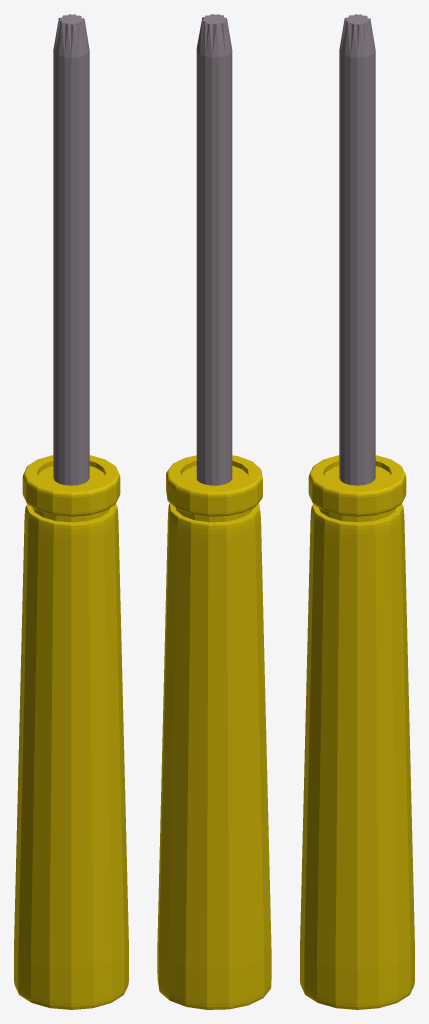
File: ScrewDriverTorx.fbx
The picture shows the model from 3 angles, left to right: view 1: azimuth 90°, elevation 25°; view 2: azimuth 150°, elevation 25°; view 3: azimuth 270°, elevation 25°; orthographic projection.
Visible parts, largest first — view 1: ScrewDriverTorx; view 2: ScrewDriverTorx; view 3: ScrewDriverTorx.
Part boxes in pixels (box(x1,y1,x2,y2)): ScrewDriverTorx: box(14, 14, 128, 1009); ScrewDriverTorx: box(157, 14, 271, 1009); ScrewDriverTorx: box(300, 14, 414, 1009).
Size of the model in its own units: 520 by 4829 by 520.
